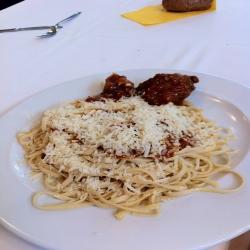bolonese_pasta: (33, 88, 228, 203)
